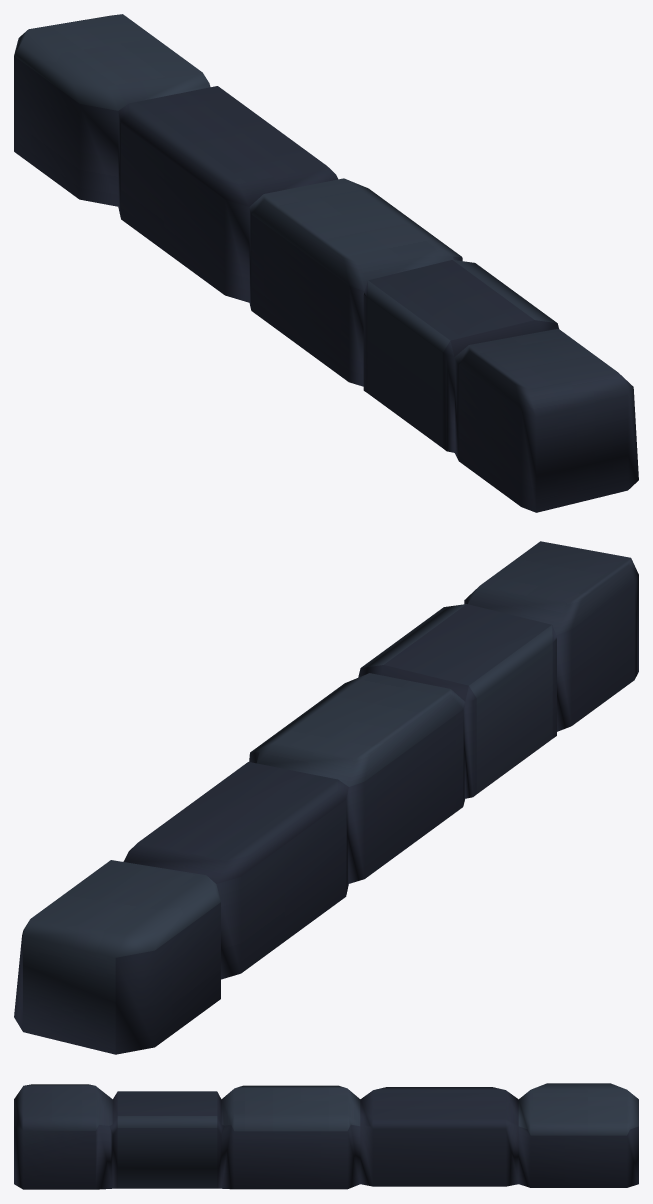
Rendered from Modular_Dungeon_Edge_Bottom.fbx.
3 renders of one model, top to bottom at view 1: azimuth 30°, elevation 25°; view 2: azimuth 150°, elevation 25°; view 3: azimuth 270°, elevation 25°, orthographic. The views are drawn at different scales.
Visible parts, largest first — view 1: Edge_Bottom; view 2: Edge_Bottom; view 3: Edge_Bottom.
Boxes of the visible parts, left/top/right/bottom form: Edge_Bottom: left=14, top=14, right=638, bottom=512; Edge_Bottom: left=14, top=541, right=638, bottom=1054; Edge_Bottom: left=14, top=1083, right=638, bottom=1189.
Bounding box in the file's own units: 0.8108 × 0.6618 × 5.25.
Materials: 1 (1 with a texture image).
